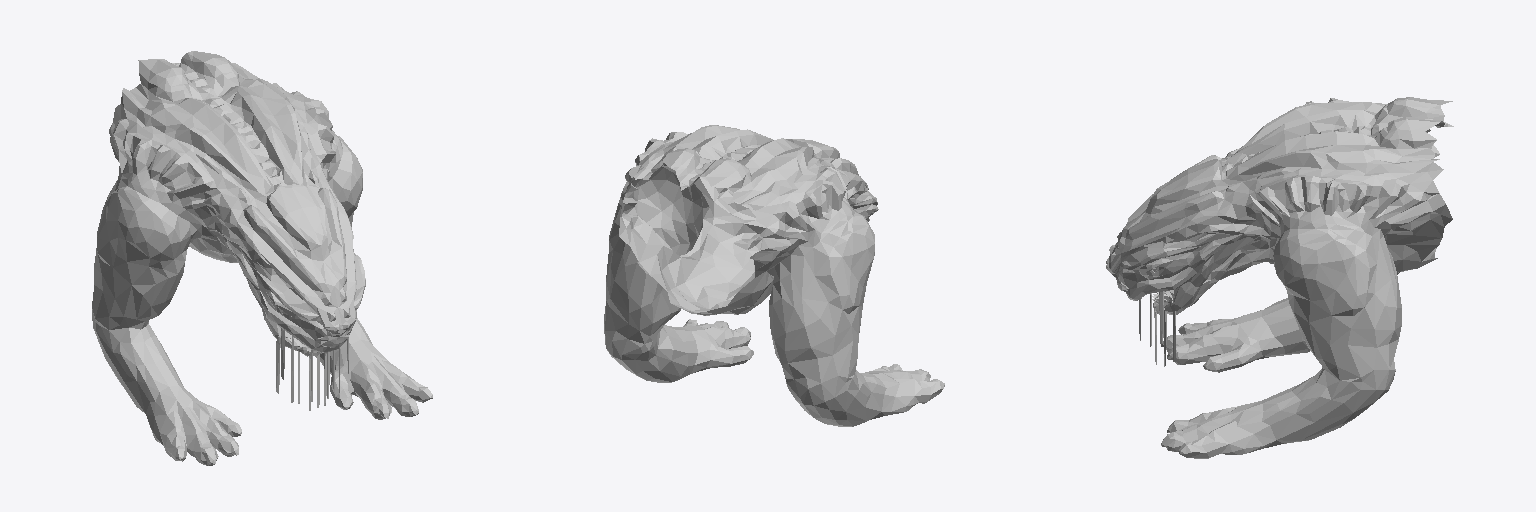
The model's file is Alien Animal_front.obj.
3 renders of one model, left to right at view 1: azimuth 30°, elevation 25°; view 2: azimuth 150°, elevation 25°; view 3: azimuth 270°, elevation 25°, orthographic.
Parts seen in each view (by area): view 1: aa_low.001_Cube.007; view 2: aa_low.001_Cube.007; view 3: aa_low.001_Cube.007.
Boxes of the visible parts, x1,y1,x2,y2 form: aa_low.001_Cube.007: [92, 51, 432, 465]; aa_low.001_Cube.007: [604, 125, 944, 426]; aa_low.001_Cube.007: [1106, 97, 1453, 458].
Bounding box in the file's own units: 17.95 × 19.55 × 21.09.